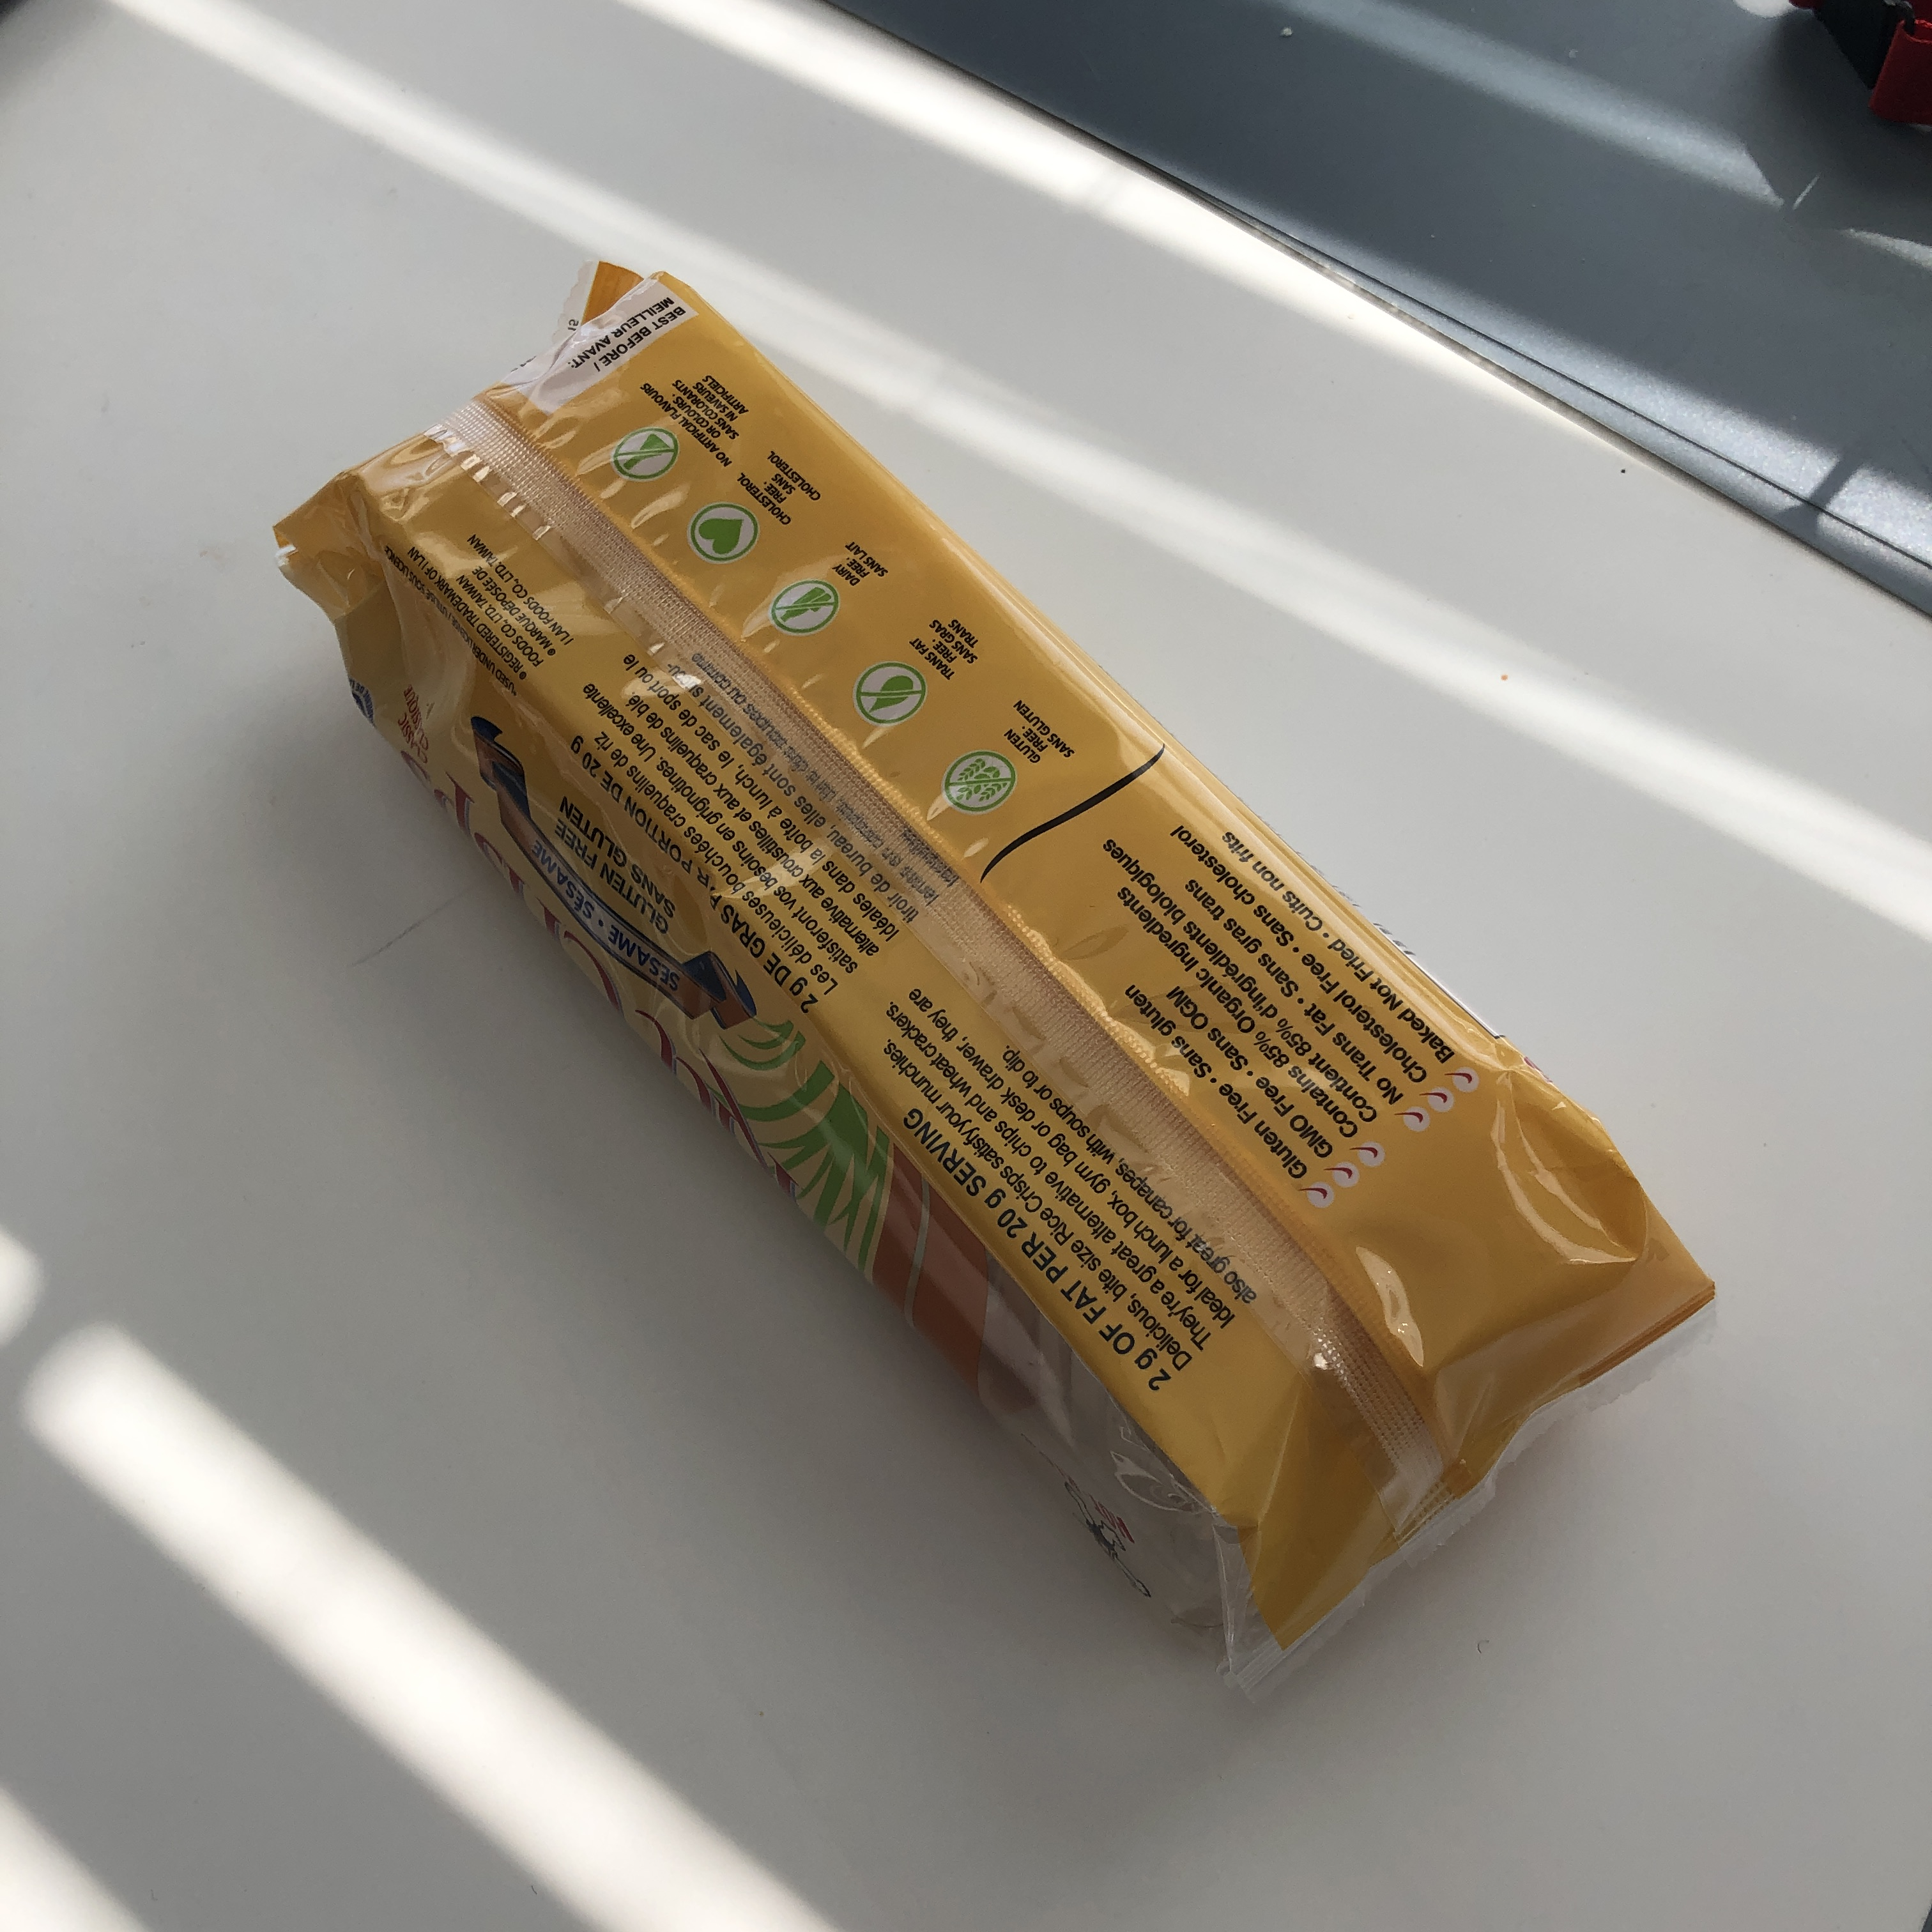hot_kid_rice_crisps_sesame: (285, 663, 1697, 1507)
